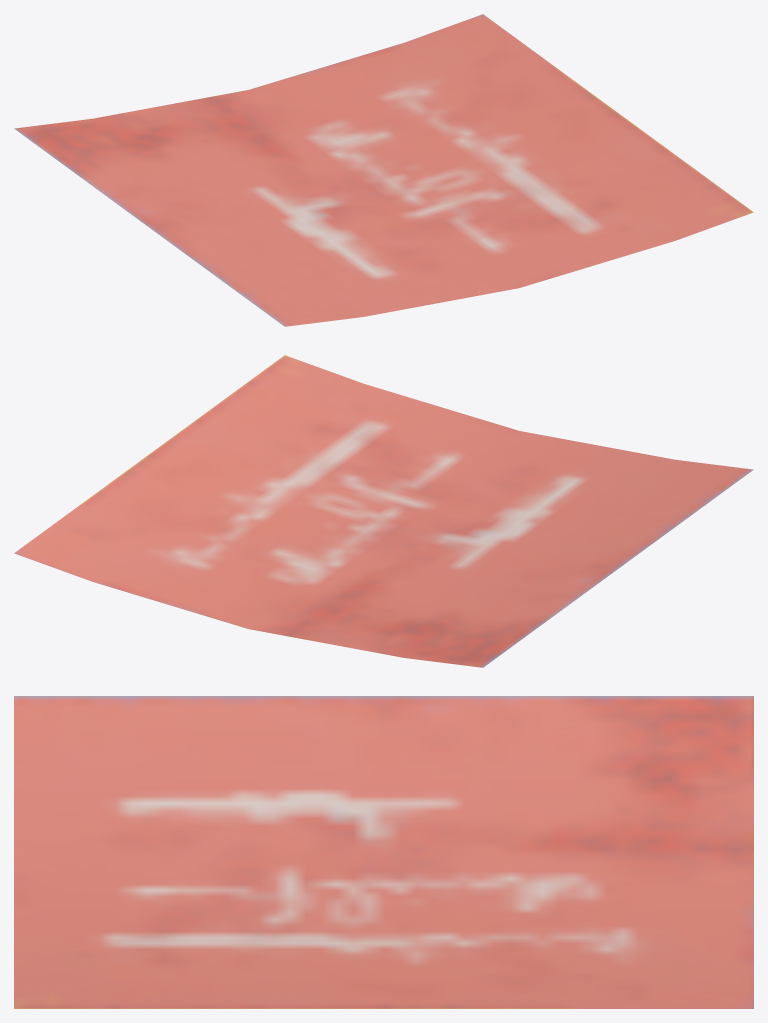
Rendered from SM_Magnets_08.fbx.
3 views of the same model, one above another, from view 1: azimuth 30°, elevation 25°; view 2: azimuth 150°, elevation 25°; view 3: azimuth 270°, elevation 25° (orthographic). The views are drawn at different scales.
Visible parts, largest first — view 1: SM_Magnets_08_LOD0; view 2: SM_Magnets_08_LOD0; view 3: SM_Magnets_08_LOD0.
Boxes of the visible parts, x1,y1,x2,y2 form: SM_Magnets_08_LOD0: (14, 14, 753, 326); SM_Magnets_08_LOD0: (14, 355, 753, 667); SM_Magnets_08_LOD0: (14, 696, 753, 1008).
Bounding box in the file's own units: 10 × 10 × 0.3773.
1 material, 1 textured.
